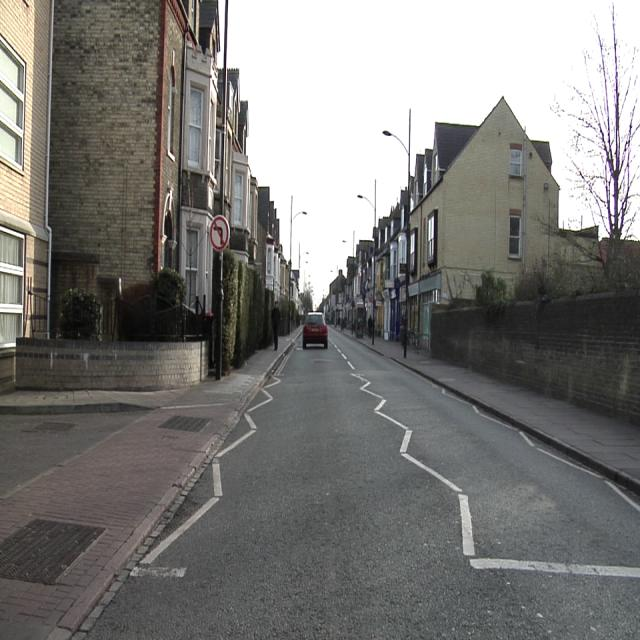Building: (0, 1, 292, 349), (324, 97, 584, 343)
Car: (303, 312, 327, 347)
Road: (85, 330, 635, 639)
Tree: (551, 3, 639, 248)
